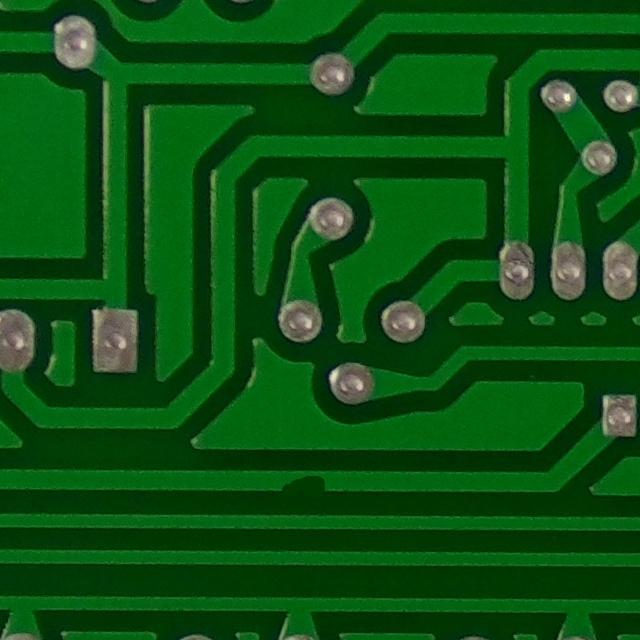mouse_bite: (253, 455, 342, 508)
